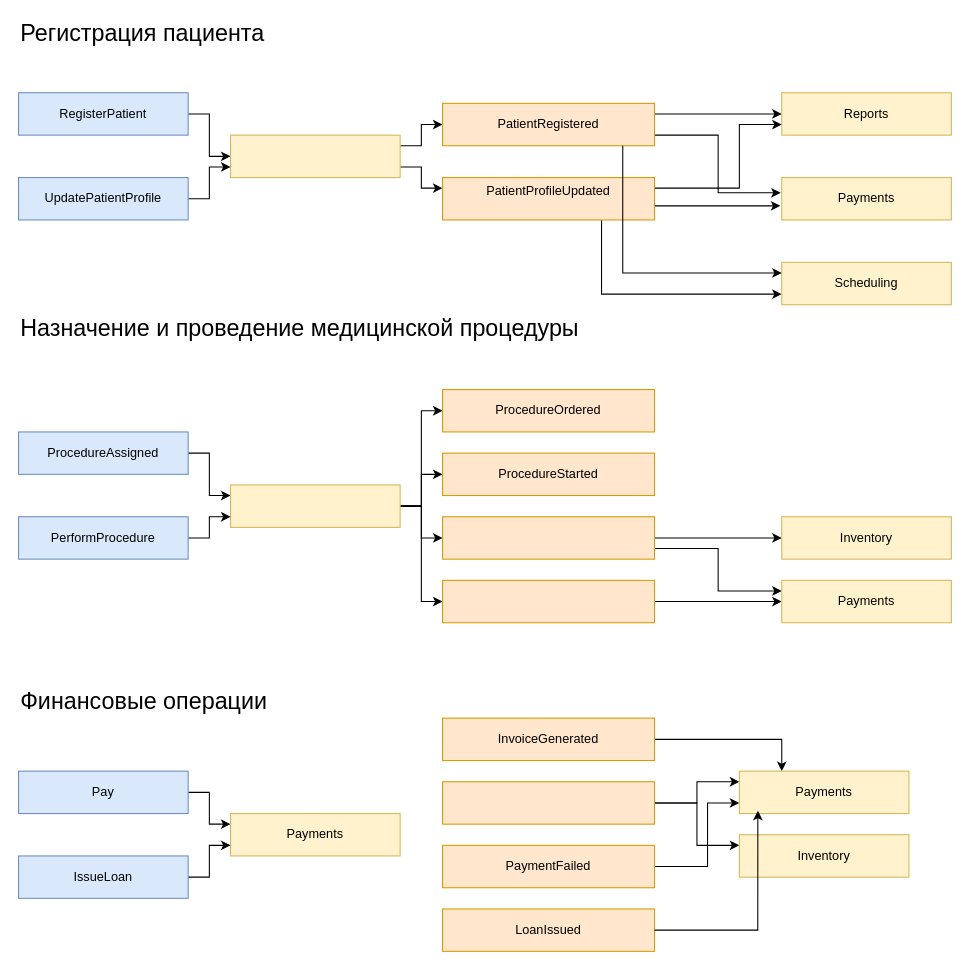
Some shapes in this 970 by 970 pixel diagram are drawn without their labels. Here are the shapes that lost their labels. From the top down, the centre of each, then its label:
[314,156]: PatientManagement
[314,505]: MedicalProcedures
[548,537]: ProcedureCompleted
[548,601]: DiagnosisEstablished
[548,802]: PayementReceived
